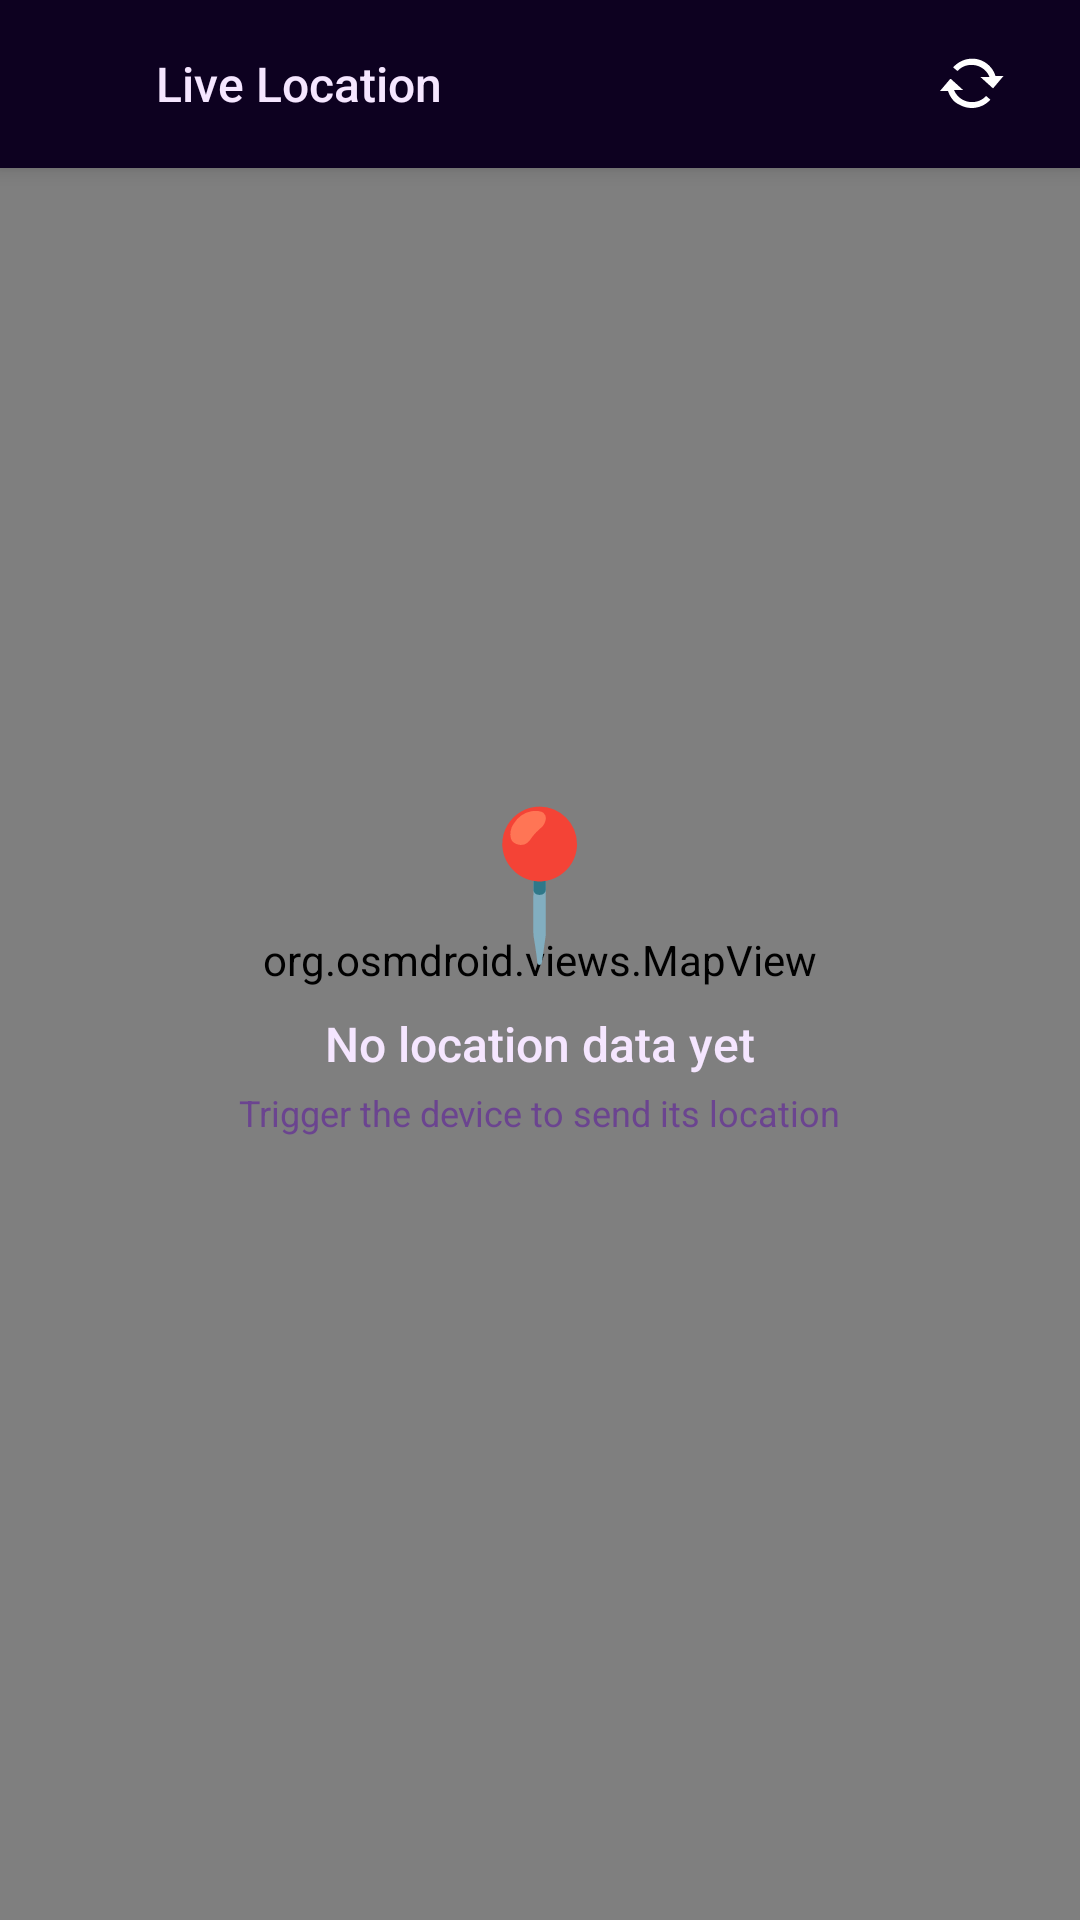

Point at icon controls on the screen. Image size 1080*1920, points as (x,y).
Refresh Location: (972,83)
